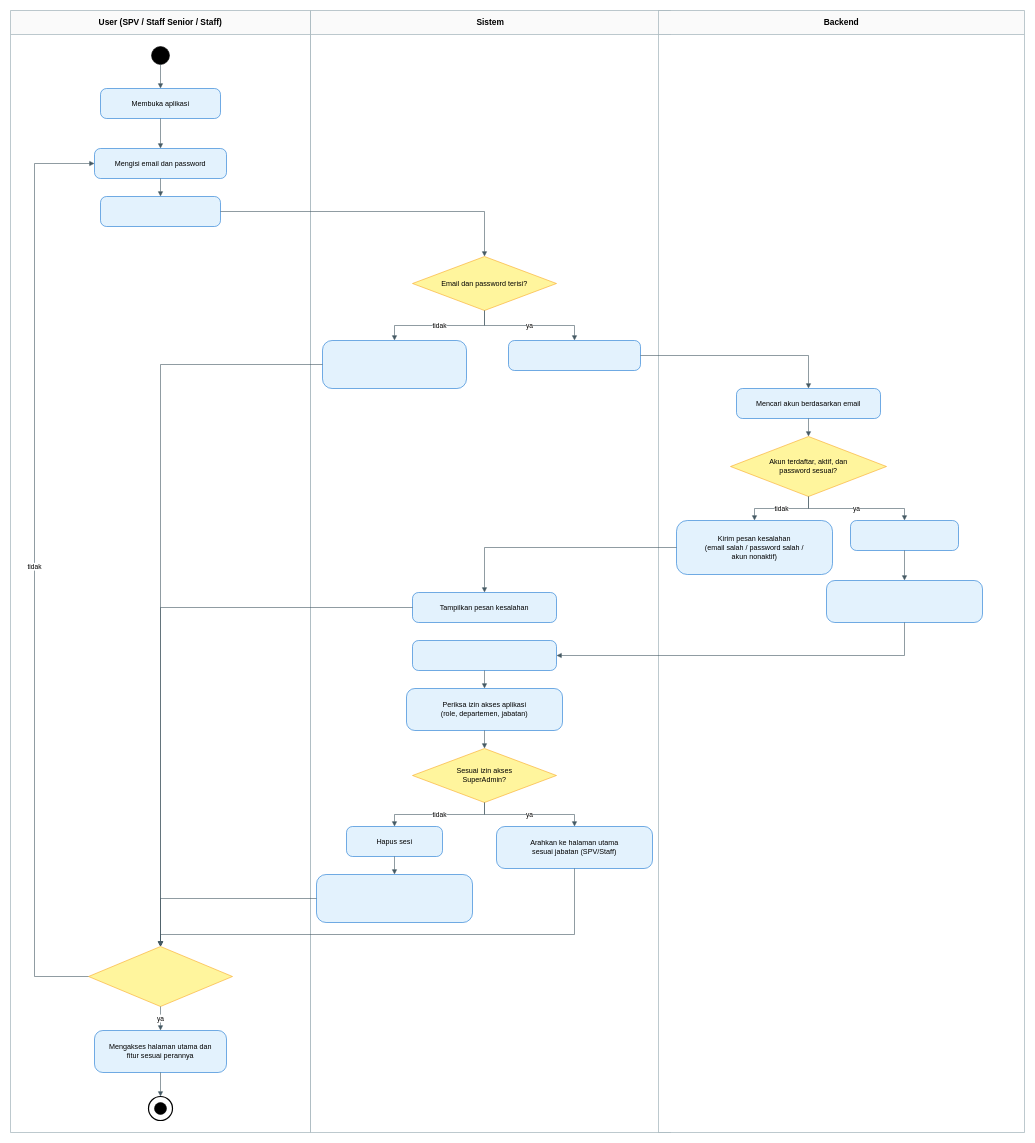
The diagram is 1035 pixels wide and 1143 high, and some of its shapes have lost their labels. Each missing label, with the centre of its shape:
Buat token akses: (x=904, y=535)
Kirim data login ke Backend: (x=574, y=355)
Kirim token dan data pengguna (role, departemen, jabatan): (x=904, y=601)
Menekan tombol "Masuk": (x=160, y=211)
Proses login berhasil?: (x=160, y=976)
Simpan sesi login di perangkat: (x=484, y=655)
Tampilkan pesan "Email/Password wajib diisi": (x=394, y=364)
Tampilkan pesan "Tidak memiliki izin mengakses aplikasi": (x=394, y=898)
